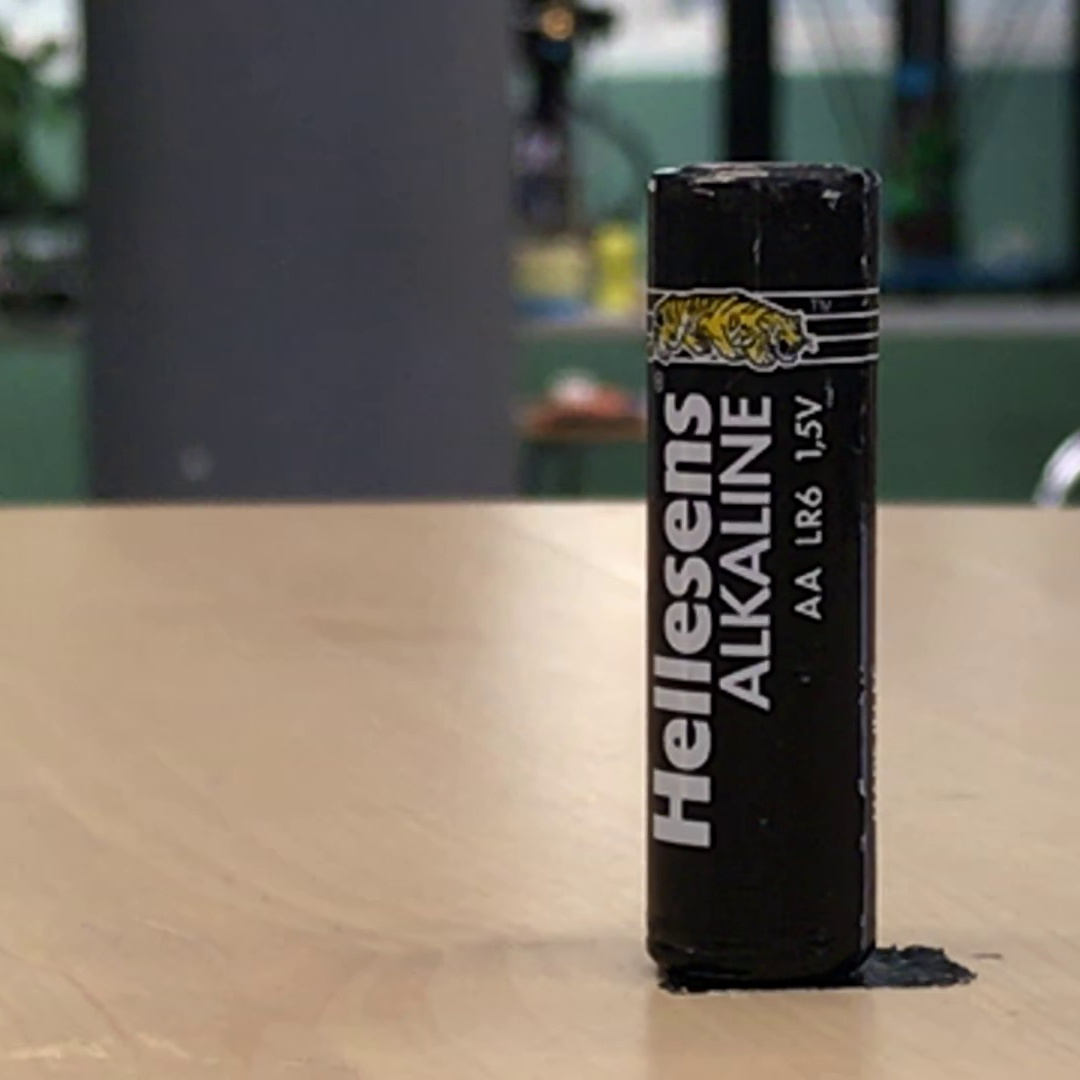keyword: (712, 386, 779, 718)
